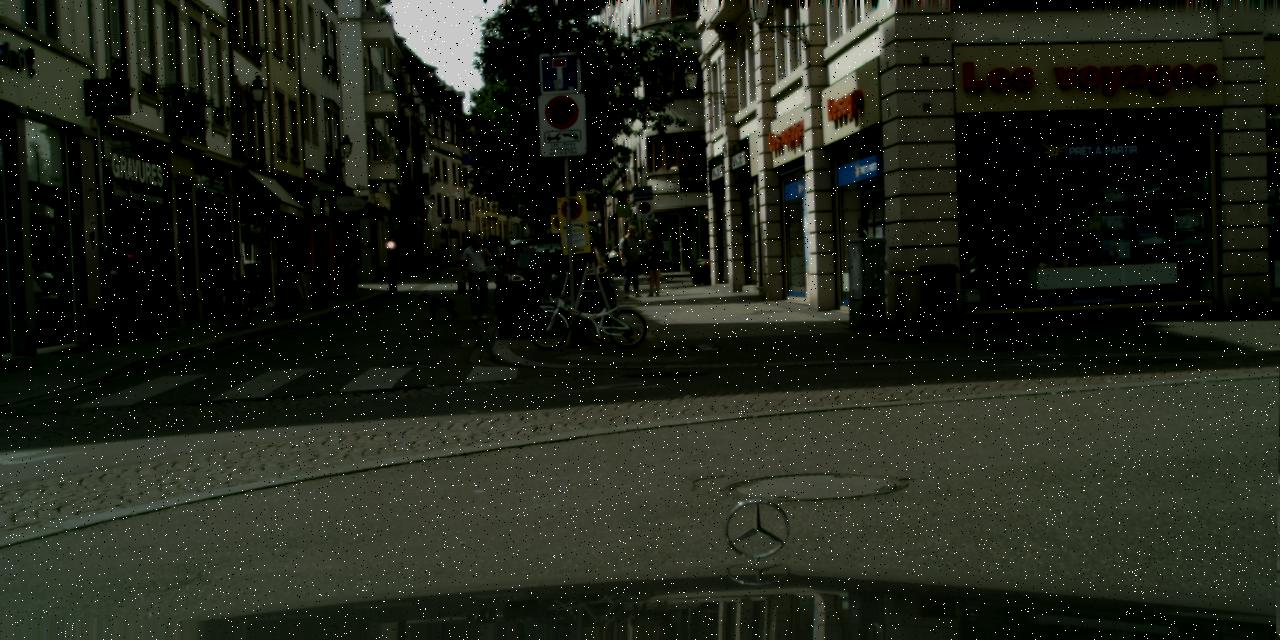ped: (461, 235, 495, 319), (617, 225, 646, 298), (640, 228, 666, 296), (494, 242, 507, 272), (429, 248, 440, 275), (601, 245, 619, 257), (619, 264, 623, 276)
